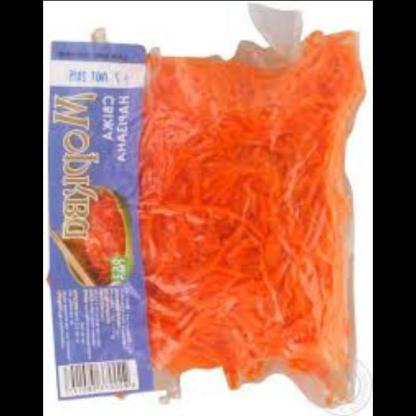carrot: (132, 56, 352, 366)
